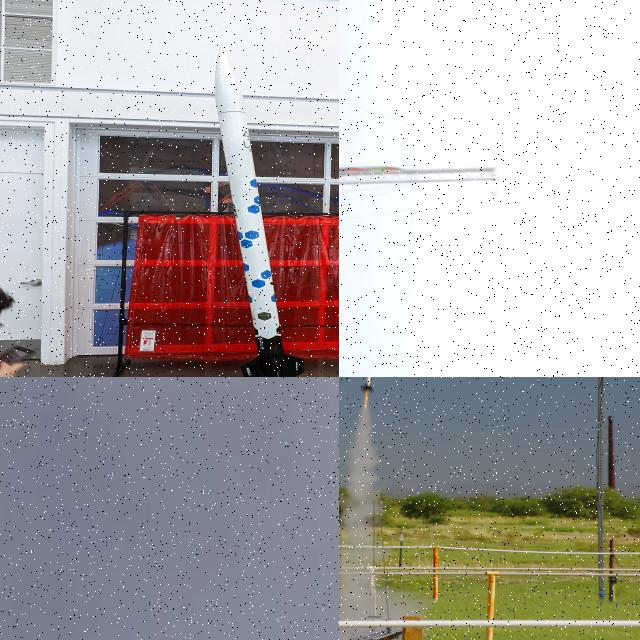Rocket: (214, 45, 305, 377), (339, 167, 405, 174), (360, 377, 376, 392)
